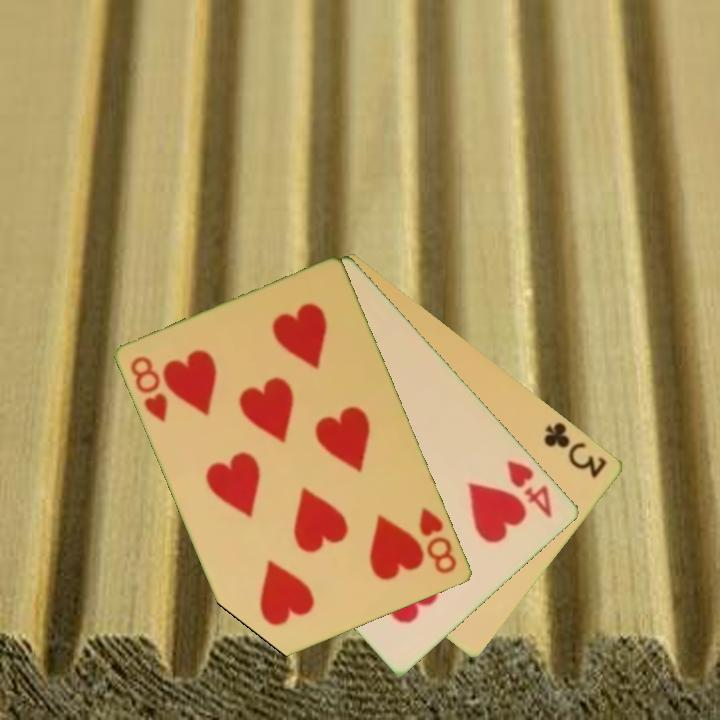3c: (540, 418, 611, 481)
4h: (504, 456, 556, 521)
8h: (416, 503, 461, 577), (127, 352, 172, 426)
